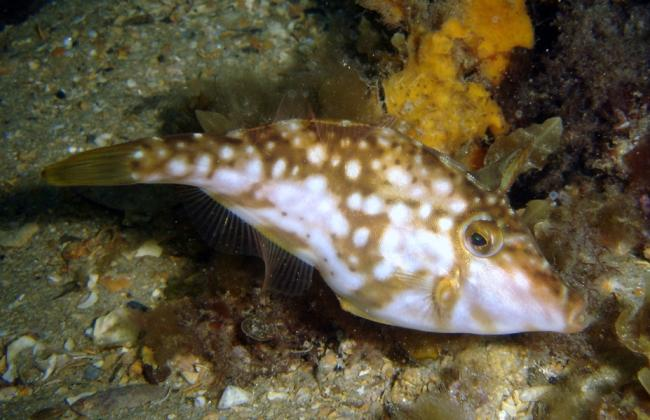fish: (41, 73, 584, 335)
